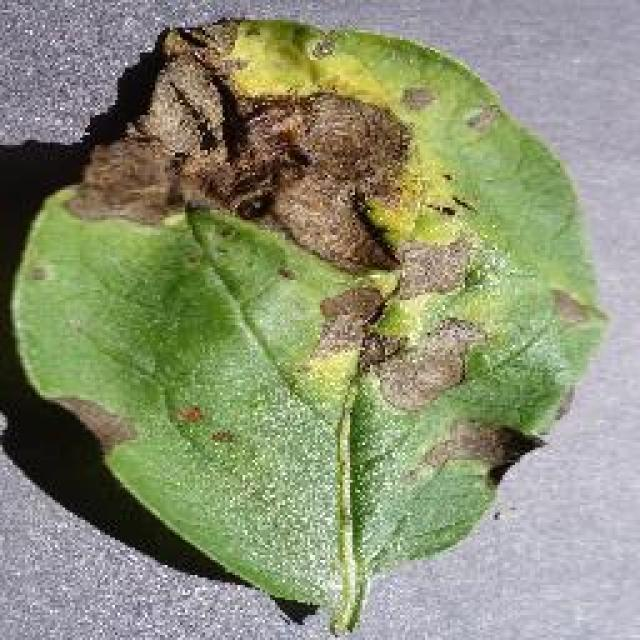early_blight: (5, 12, 610, 638)
